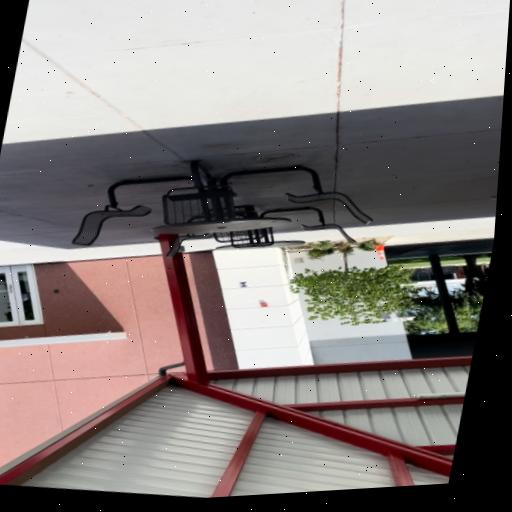target2: (238, 282, 248, 288)
